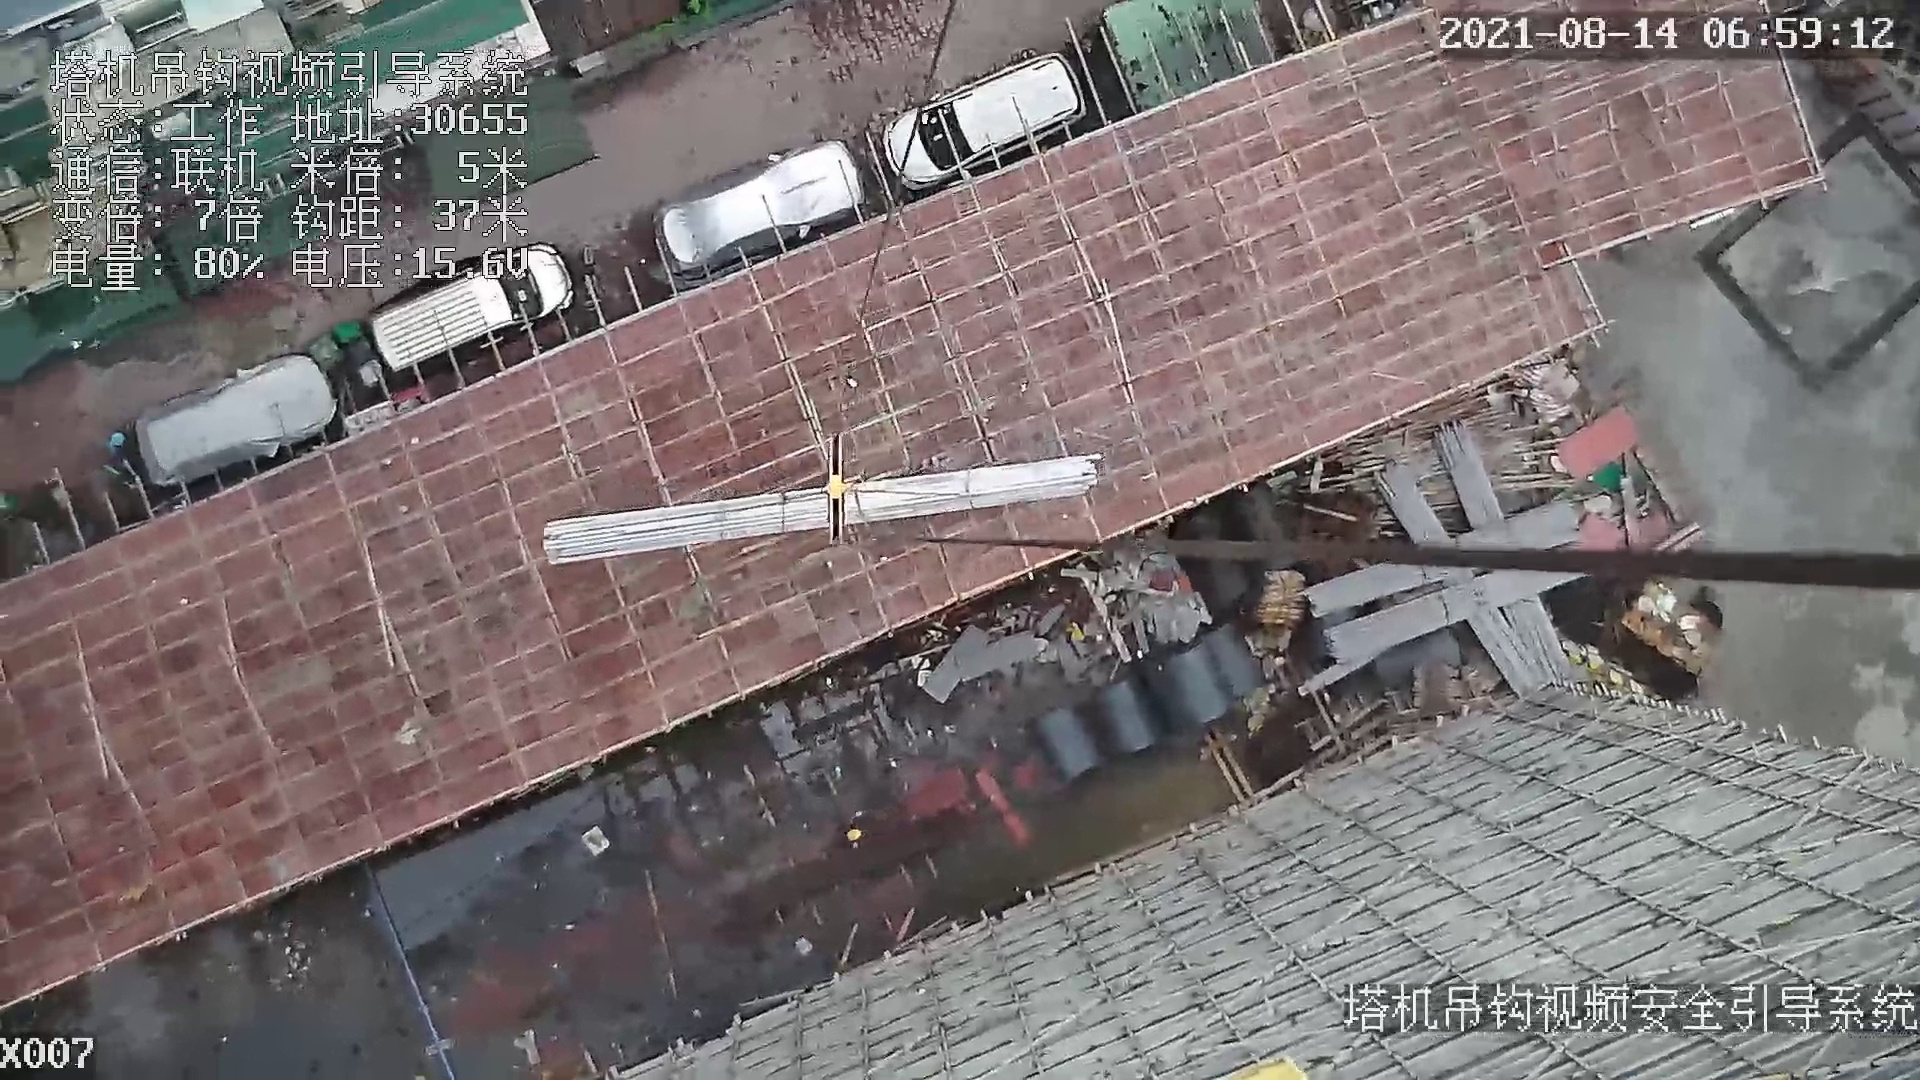hook: (814, 433, 858, 546)
rebar: (542, 454, 1101, 566), (1374, 460, 1549, 695), (1435, 419, 1572, 684), (1305, 498, 1581, 618), (1323, 571, 1590, 665)
wood: (1255, 574, 1302, 626)
